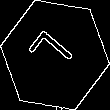L_SE: (27, 27, 83, 83)
